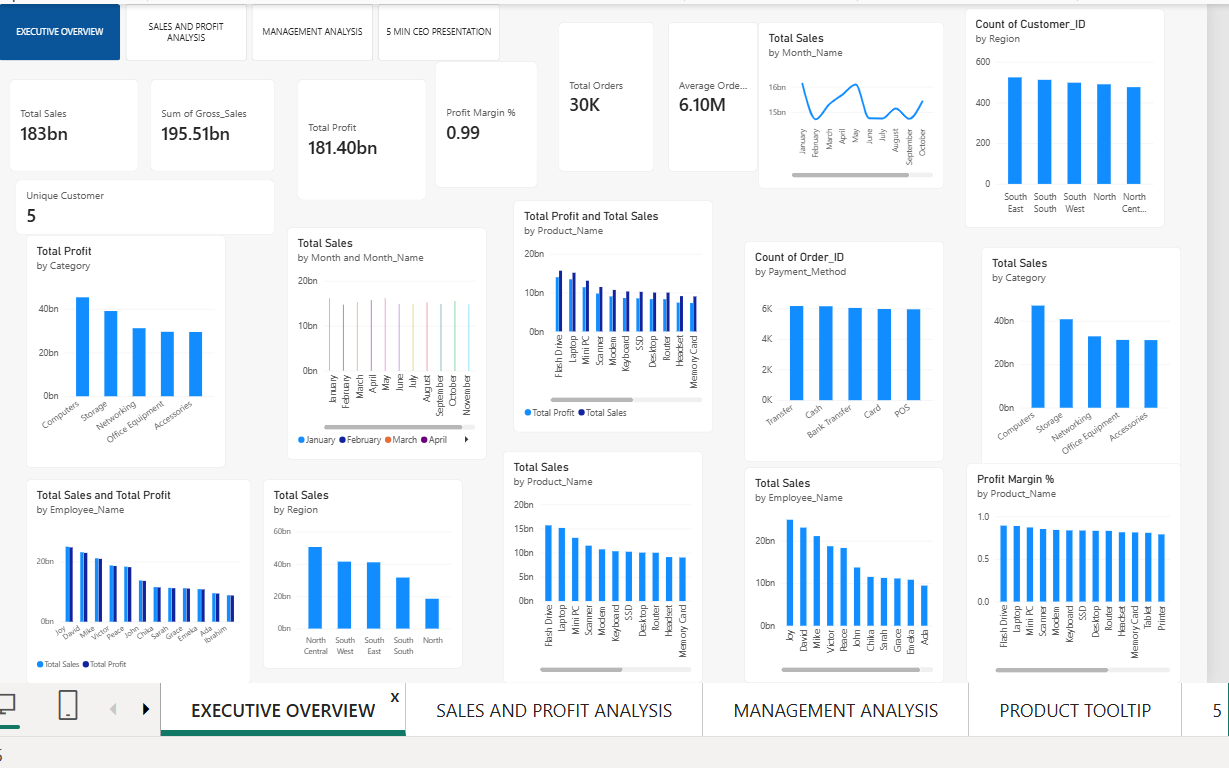

This screenshot's page, from the dashboard's own definition file:
{"tool":"powerbi","page":{"name":"EXECUTIVE  OVERVIEW ","canvas":[1920,1080],"ordinal":0},"visuals":[{"type":"cardVisual","fields":{"Data":["Fact_Sales.Total Sales"]},"box":[16.7,119.3,205.2,147.9],"z":0},{"type":"clusteredColumnChart","fields":{"Category":["Dim_Date.Date.Variation.Date Hierarchy.Month"],"Series":["Dim_Date.Month_Name"],"Y":["Fact_Sales.Total Sales"]},"box":[458.1,355.5,317,369],"z":1},{"type":"clusteredColumnChart","fields":{"Category":["Dim_Products.Product_Name"],"Y":["Fact_Sales.Total Sales"]},"box":[802.2,711.5,317,369],"z":2},{"type":"clusteredColumnChart","fields":{"Category":["Dim_Products.Category"],"Y":["Fact_Sales.Total Sales"]},"box":[1562.8,386.5,317,369],"z":3},{"type":"clusteredColumnChart","fields":{"Category":["Dim_Products.Category"],"Y":["Fact_Sales.Total Profit"]},"box":[42.9,367.4,317.3,369.8],"z":4},{"type":"clusteredColumnChart","fields":{"Category":["Dim_Products.Product_Name"],"Y":["Fact_Sales.Profit Margin %"]},"box":[1538.9,730.1,341.2,350.7],"z":5},{"type":"clusteredColumnChart","fields":{"Category":["Dim_Products.Product_Name"],"Y":["Fact_Sales.Total Profit","Fact_Sales.Total Sales"]},"box":[818.4,312.6,317.5,368.5],"z":6},{"type":"clusteredColumnChart","fields":{"Category":["Dim_Customers.Region"],"Y":["CountNonNull(Dim_Customers.Customer_ID)"]},"box":[1536.5,7.2,317.3,348.3],"z":7},{"type":"columnChart","fields":{"Category":["Fact_Sales.Payment_Method"],"Y":["CountNonNull(Fact_Sales.Order_ID)"]},"box":[1184.9,377,317.5,351.5],"z":8},{"type":"clusteredColumnChart","fields":{"Category":["Dim_Employees.Employee_Name"],"Y":["Fact_Sales.Total Sales"]},"box":[1184.9,737,317.5,343],"z":9},{"type":"clusteredColumnChart","fields":{"Category":["Dim_Employees.Employee_Name"],"Y":["Fact_Sales.Total Sales","Fact_Sales.Total Profit"]},"box":[42.9,756.3,357.9,324.5],"z":10},{"type":"clusteredColumnChart","fields":{"Category":["Dim_Employees.Region"],"Y":["Fact_Sales.Total Sales"]},"box":[419.5,756.9,317.5,300.5],"z":11},{"type":"cardVisual","fields":{"Data":["Sum(Fact_Sales.Gross_Sales)"]},"box":[241,119.3,198,147.9],"z":12},{"type":"cardVisual","fields":{"Data":["Fact_Sales.Total Profit"]},"box":[474.8,119.3,205.2,193.3],"z":13},{"type":"cardVisual","fields":{"Data":["Fact_Sales.Profit Margin %"]},"box":[694.3,90.7,162.2,202.8],"z":14},{"type":"cardVisual","fields":{"Data":["Fact_Sales.Total Orders"]},"box":[889.9,28.6,152.7,238.6],"z":15},{"type":"cardVisual","fields":{"Data":["Fact_Sales.Average Order Value"]},"box":[1064.1,28.6,143.2,238.6],"z":16},{"type":"lineChart","fields":{"Category":["Dim_Date.Month_Name"],"Y":["Fact_Sales.Total Sales"]},"box":[1207.3,28.6,295.9,264.8],"z":17},{"type":"pageNavigator","box":[0,0,799.3,90.7],"z":18},{"type":"cardVisual","fields":{"Data":["Dim_Customers.Unique Customer"]},"box":[26.2,279.2,412.8,88.3],"z":19}]}

Visuals, with their boxes on the page's 1920x1080 design canvas (x1, y1, x2, y2). These are canvas units, not pixel positions in the 1229x768 screenshot, which may show the page scaled, cropped or inside an application window:
cardVisual - Fact_Sales.Total Sales: detection(17, 119, 222, 267)
clusteredColumnChart - Dim_Date.Date.Variation.Date Hierarchy.Month x Dim_Date.Month_Name: detection(458, 356, 775, 724)
clusteredColumnChart - Dim_Products.Product_Name x Fact_Sales.Total Sales: detection(802, 712, 1119, 1080)
clusteredColumnChart - Dim_Products.Category x Fact_Sales.Total Sales: detection(1563, 386, 1880, 756)
clusteredColumnChart - Dim_Products.Category x Fact_Sales.Total Profit: detection(43, 367, 360, 737)
clusteredColumnChart - Dim_Products.Product_Name x Fact_Sales.Profit Margin %: detection(1539, 730, 1880, 1081)
clusteredColumnChart - Dim_Products.Product_Name x Fact_Sales.Total Profit: detection(818, 313, 1136, 681)
clusteredColumnChart - Dim_Customers.Region x CountNonNull(Dim_Customers.Customer_ID): detection(1536, 7, 1854, 356)
columnChart - Fact_Sales.Payment_Method x CountNonNull(Fact_Sales.Order_ID): detection(1185, 377, 1502, 728)
clusteredColumnChart - Dim_Employees.Employee_Name x Fact_Sales.Total Sales: detection(1185, 737, 1502, 1080)
clusteredColumnChart - Dim_Employees.Employee_Name x Fact_Sales.Total Sales: detection(43, 756, 401, 1081)
clusteredColumnChart - Dim_Employees.Region x Fact_Sales.Total Sales: detection(420, 757, 737, 1057)
cardVisual - Sum(Fact_Sales.Gross_Sales): detection(241, 119, 439, 267)
cardVisual - Fact_Sales.Total Profit: detection(475, 119, 680, 313)
cardVisual - Fact_Sales.Profit Margin %: detection(694, 91, 856, 294)
cardVisual - Fact_Sales.Total Orders: detection(890, 29, 1043, 267)
cardVisual - Fact_Sales.Average Order Value: detection(1064, 29, 1207, 267)
lineChart - Dim_Date.Month_Name x Fact_Sales.Total Sales: detection(1207, 29, 1503, 293)
pageNavigator: detection(0, 0, 799, 91)
cardVisual - Dim_Customers.Unique Customer: detection(26, 279, 439, 368)
